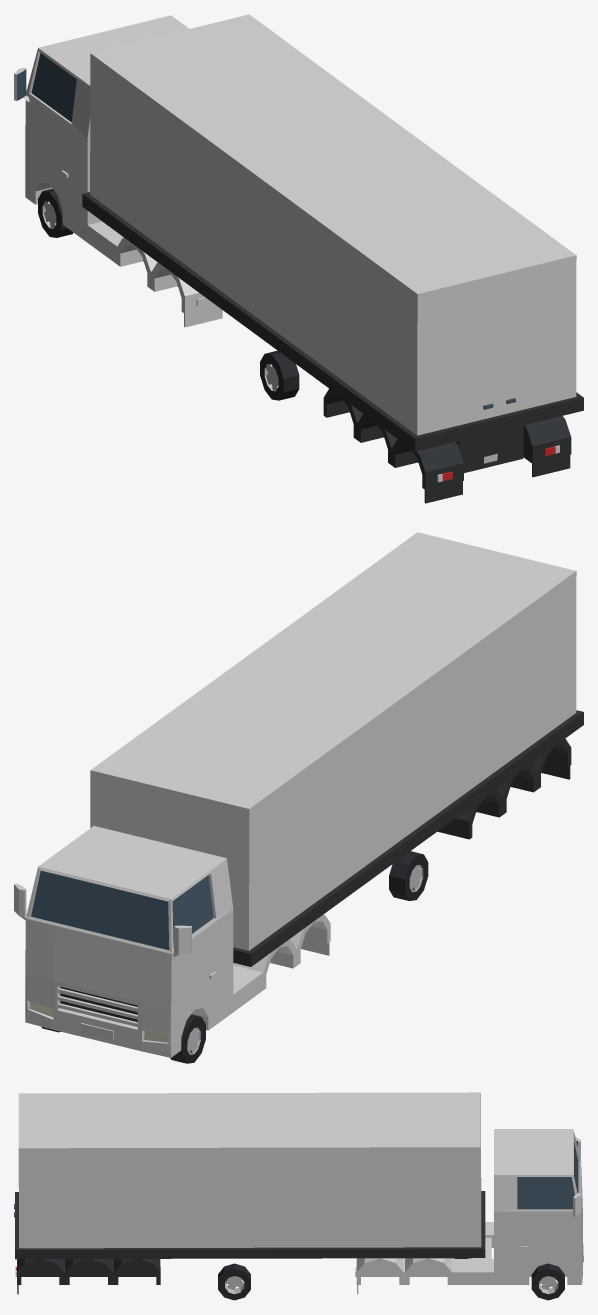
Rendered from semi.glb.
The picture shows the model from 3 angles, top to bottom: view 1: azimuth 30°, elevation 25°; view 2: azimuth 150°, elevation 25°; view 3: azimuth 270°, elevation 25°; orthographic projection. The views are drawn at different scales.
Parts seen in each view (by area): view 1: Body, Wheel_RL, Wheel_FL; view 2: Body, Wheel_RL, Wheel_FL; view 3: Body, Wheel_FR, Wheel_RR.
Boxes of the visible parts, x1,y1,x2,y2 form: Body: [14, 14, 583, 503]; Wheel_RL: [260, 350, 299, 400]; Wheel_FL: [38, 188, 73, 237]; Body: [14, 532, 583, 1057]; Wheel_RL: [389, 851, 428, 900]; Wheel_FL: [170, 1014, 205, 1063]; Body: [14, 1092, 583, 1294]; Wheel_FR: [531, 1263, 564, 1300]; Wheel_RR: [218, 1263, 250, 1300].
Size of the model in its own units: 3.41 by 4.05 by 13.42.
